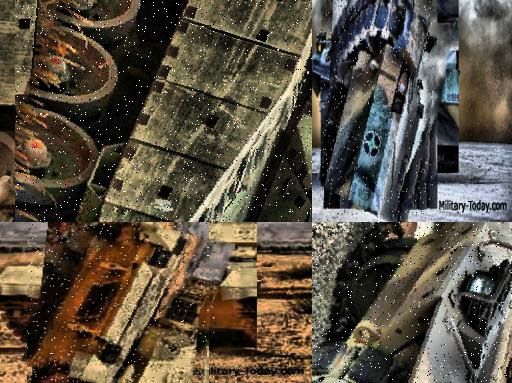tanks: (17, 1, 313, 223), (313, 223, 512, 383), (27, 223, 217, 383), (322, 2, 434, 223)
